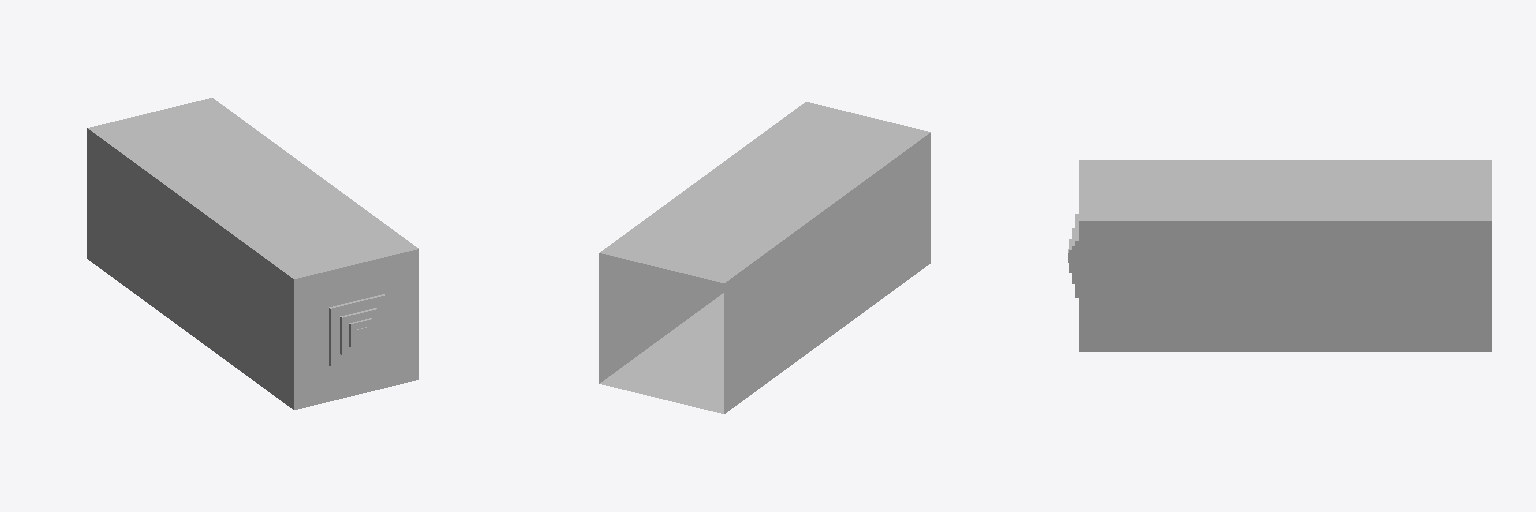
The model's file is tower17.obj.
3 renders of one model, left to right at view 1: azimuth 30°, elevation 25°; view 2: azimuth 150°, elevation 25°; view 3: azimuth 270°, elevation 25°, orthographic.
Parts seen in each view (by area): view 1: tower17; view 2: tower17; view 3: tower17.
Part boxes in pixels (left/top/right/bottom): tower17: left=87, top=98, right=418, bottom=409; tower17: left=599, top=102, right=930, bottom=413; tower17: left=1068, top=160, right=1491, bottom=351.
Bounding box in the file's own units: 21.41 × 21.41 × 62.89.